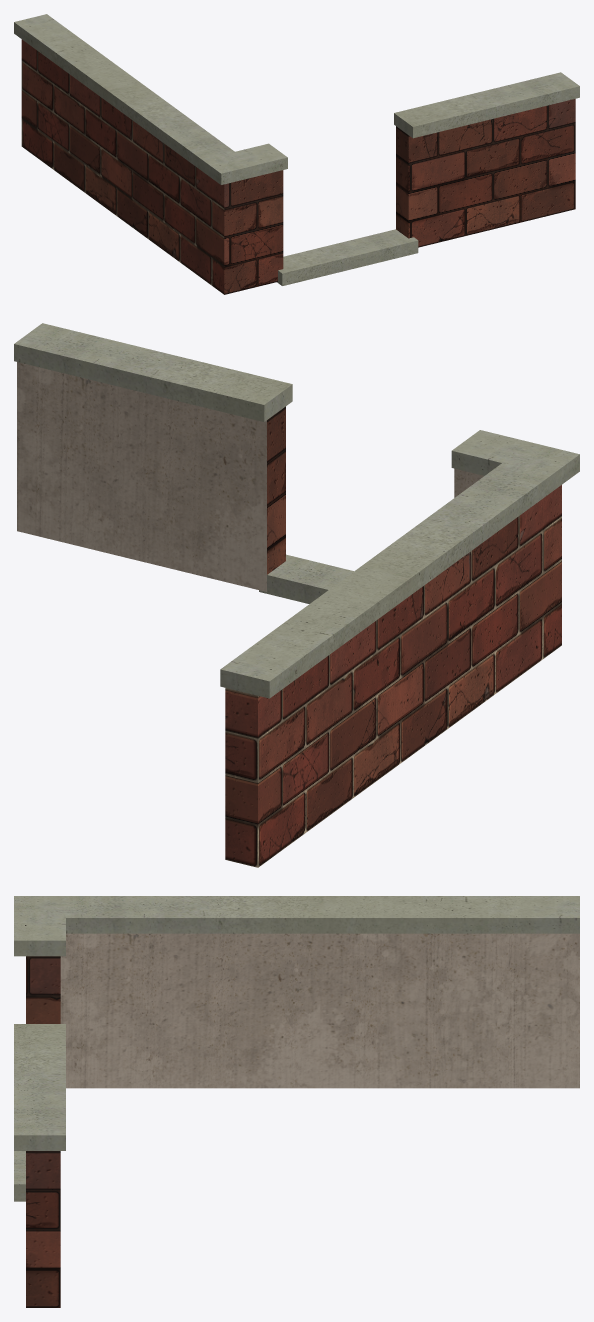
The model's file is roof03_cornerGap01.fbx.
The picture shows the model from 3 angles, top to bottom: view 1: azimuth 30°, elevation 25°; view 2: azimuth 150°, elevation 25°; view 3: azimuth 270°, elevation 25°; orthographic projection. The views are drawn at different scales.
Visible parts, largest first — view 1: roof03_cornerGap01; view 2: roof03_cornerGap01; view 3: roof03_cornerGap01.
Boxes of the visible parts, x1,y1,x2,y2 form: roof03_cornerGap01: (14,14,579,294); roof03_cornerGap01: (14,323,579,867); roof03_cornerGap01: (14,896,579,1307).
Bounding box in the file's own units: 327 × 111 × 327.
